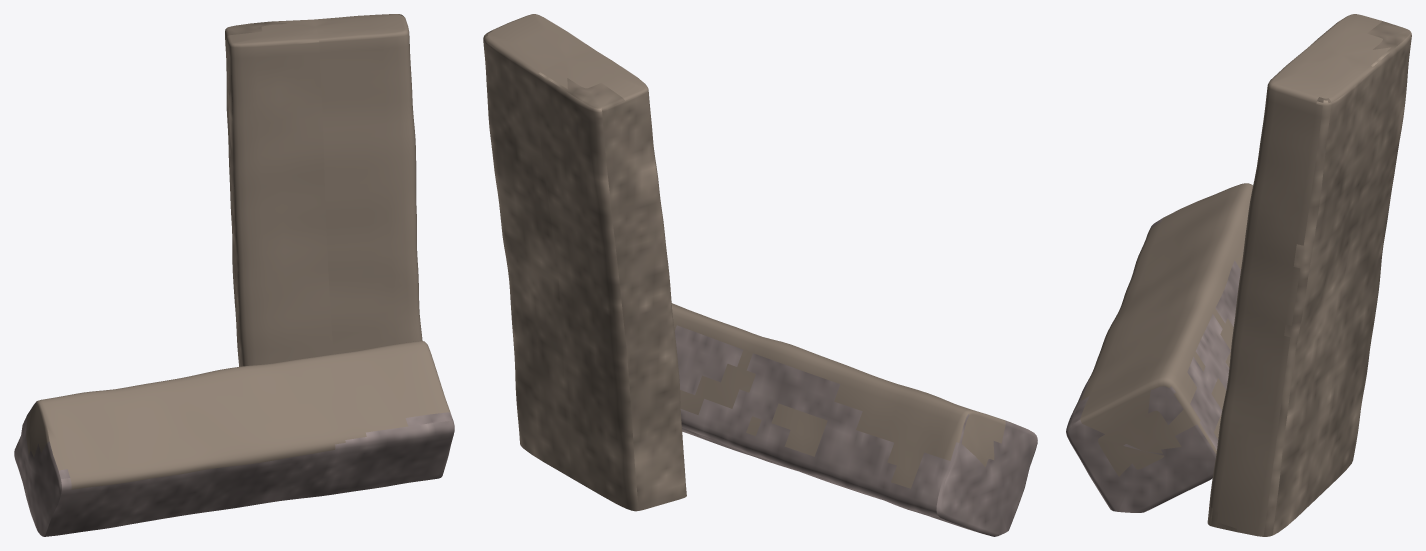
Rendered from VerHenge07.glb.
The picture shows the model from 3 angles, left to right: view 1: azimuth 30°, elevation 25°; view 2: azimuth 150°, elevation 25°; view 3: azimuth 270°, elevation 25°; orthographic projection. The views are drawn at different scales.
Parts seen in each view (by area): view 1: VerHenge07; view 2: VerHenge07; view 3: VerHenge07.
Boxes of the visible parts, box(x1,y1,x2,y2) form: VerHenge07: box(14, 14, 454, 536); VerHenge07: box(483, 14, 1037, 536); VerHenge07: box(1066, 14, 1411, 536).
Size of the model in its own units: 4.26 by 3.76 by 2.64.
Materials: 2 (1 with a texture image).
